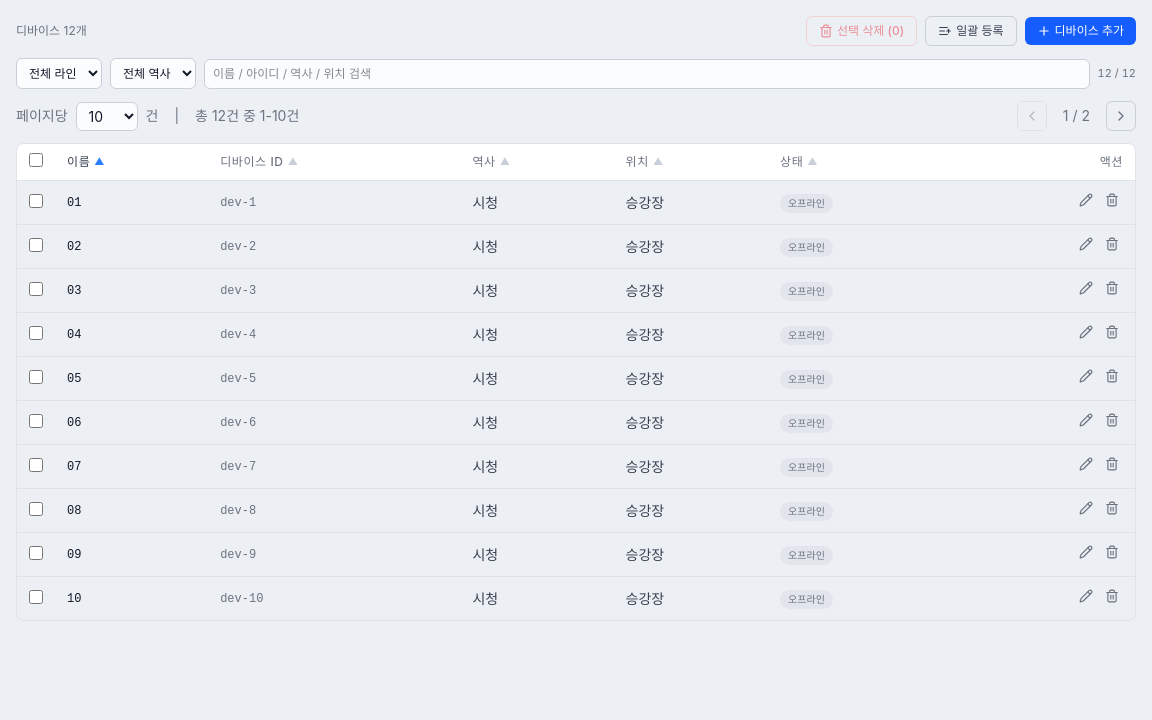
Test: XsfmDevicesTab 페이지네이션 › 페이지 크기를 25로 늘리면 12개 전체가 렌더된다
Step 1. Select "25" in the dropdown named "페이지당" → (106, 116), box [76,102,138,130]
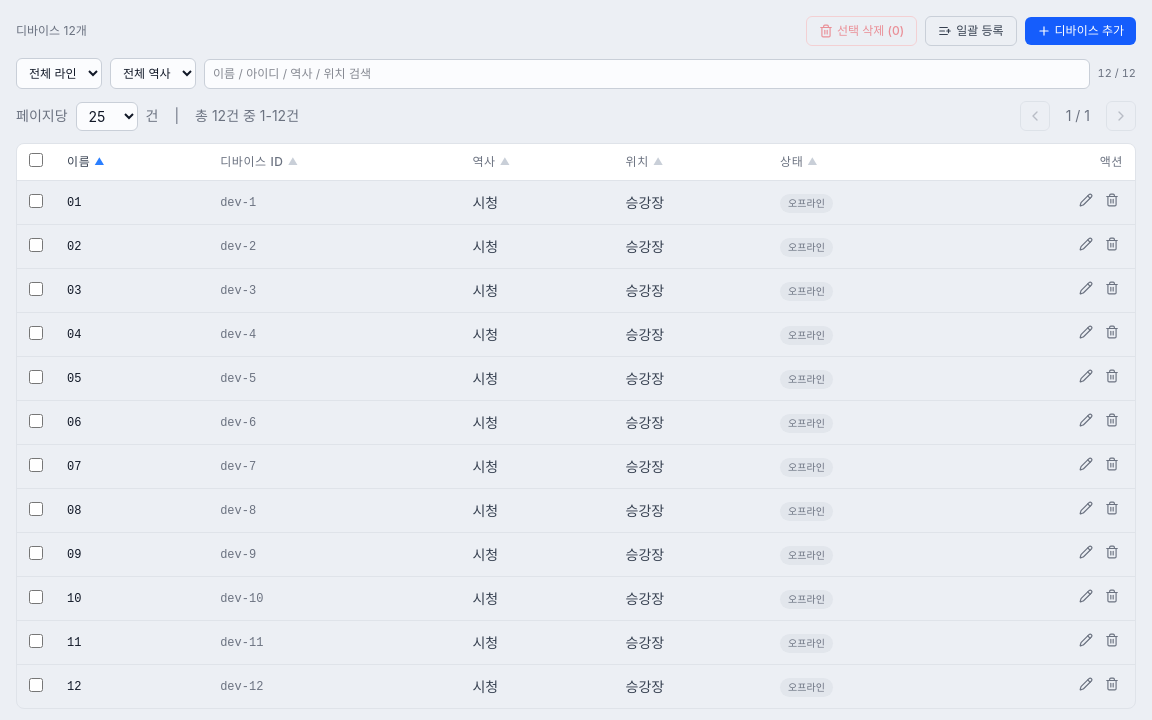
Check: the text "dev-11" is shown, box [208,620,460,664]
Check: the text "dev-12" is shown, box [208,664,460,708]
